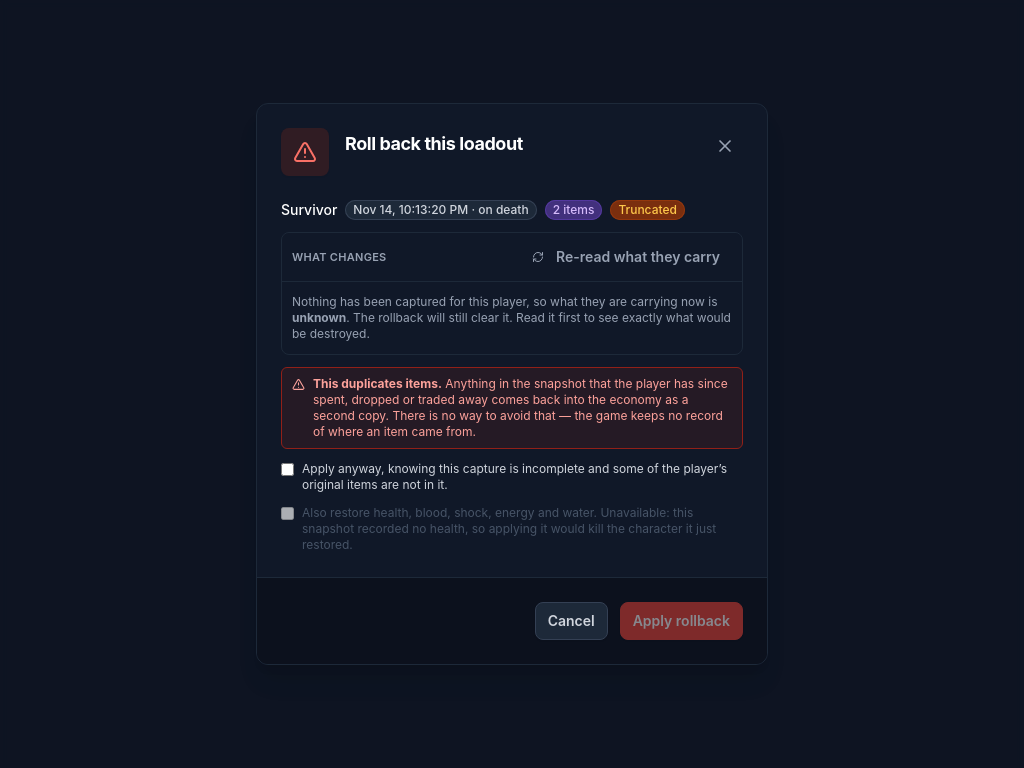
Scenario: the truncation gate › blocks a truncated snapshot until it is acknowledged
Expected: the button "Apply rollback" is disabled, [620,602,743,640]
Step 1. Click the 1st checkbox → {"x": 288, "y": 470}, box [281,463,294,476]
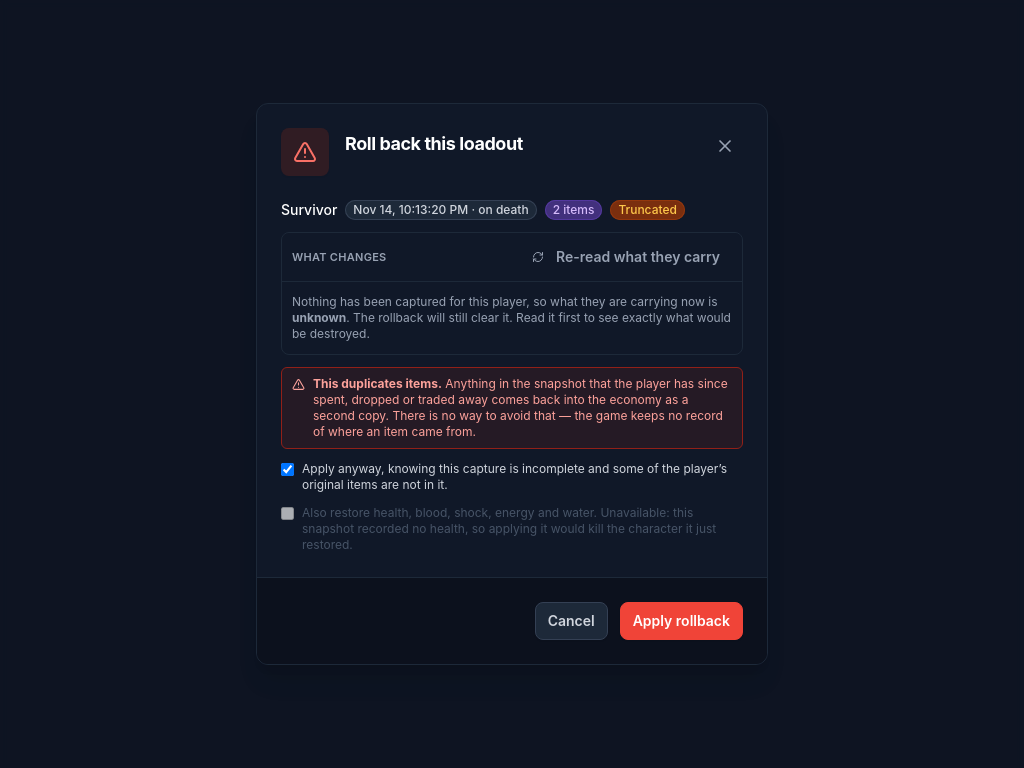
Result: the button "Apply rollback" is enabled at [620,602,743,640]
